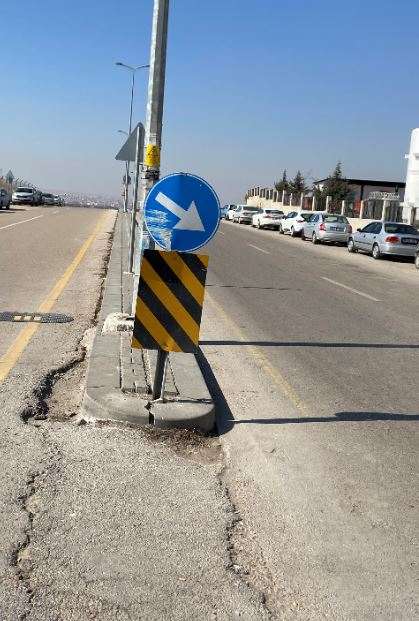Sagdan Git: (142, 171, 226, 257)
